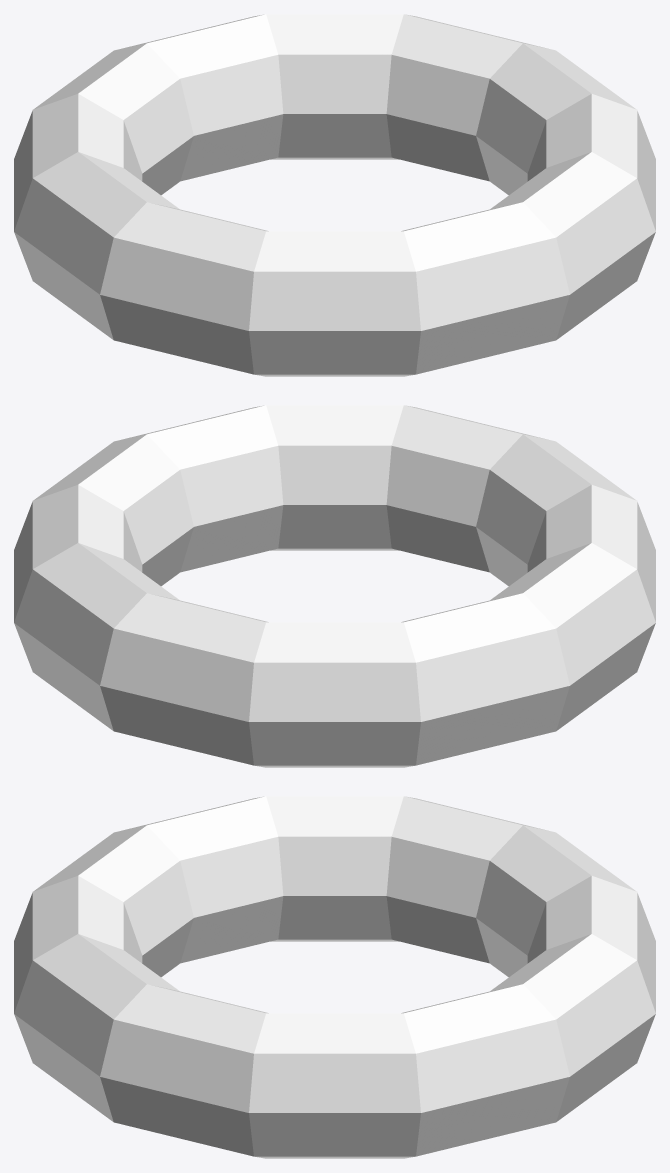
3 renders of one model, top to bottom at view 1: azimuth 30°, elevation 25°; view 2: azimuth 150°, elevation 25°; view 3: azimuth 270°, elevation 25°, orthographic.
Visible parts, largest first — view 1: torus; view 2: torus; view 3: torus.
Boxes of the visible parts, x1,y1,x2,y2 form: torus: [14, 14, 655, 376]; torus: [14, 405, 655, 767]; torus: [14, 796, 655, 1158].
Bounding box in the file's own units: 100 × 25 × 100.
Materials: 1 (1 with a texture image).
